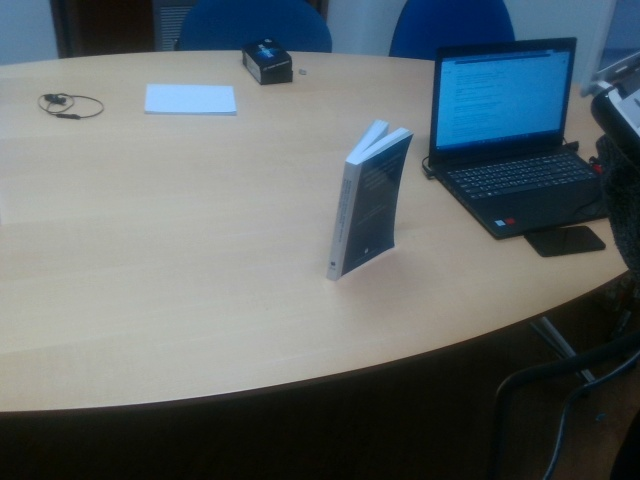book: (345, 160, 393, 249)
